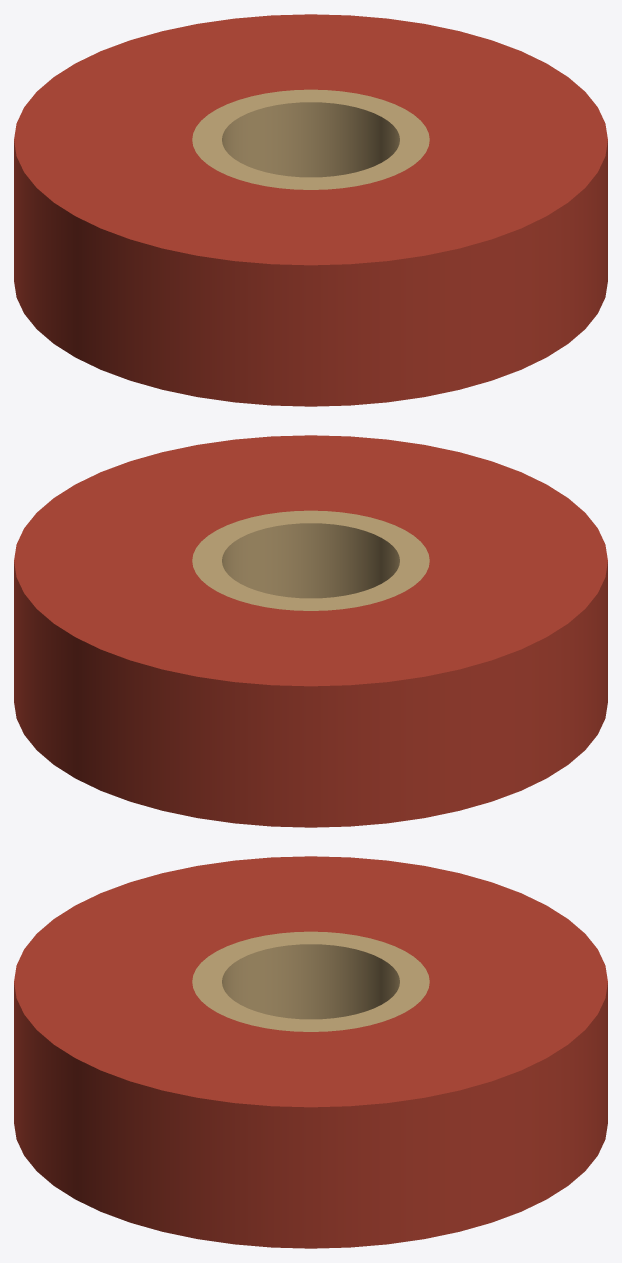
The model's file is tape_roll.glb.
3 views of the same model, one above another, from view 1: azimuth 30°, elevation 25°; view 2: azimuth 150°, elevation 25°; view 3: azimuth 270°, elevation 25° (orthographic).
Parts seen in each view (by area): view 1: electrical_tape:ring; view 2: electrical_tape:ring; view 3: electrical_tape:ring.
Part boxes in pixels (x1,y1,x2,y2): electrical_tape:ring: [14, 14, 607, 406]; electrical_tape:ring: [14, 435, 607, 827]; electrical_tape:ring: [14, 856, 607, 1248].
Size of the model in its own units: 0.08 by 0.021 by 0.08.
